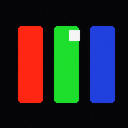1 square: (69, 30, 79, 40)
